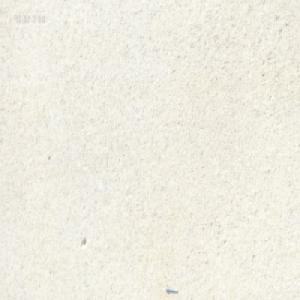Nail: (165, 284, 177, 292)
